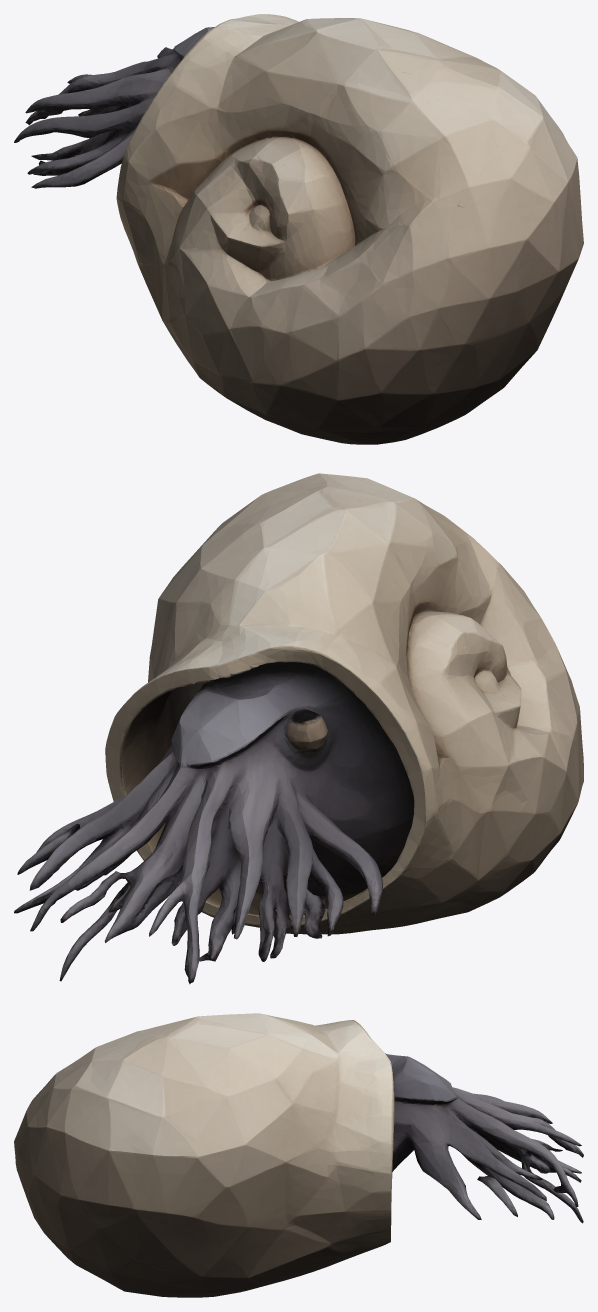
3 renders of one model, top to bottom at view 1: azimuth 30°, elevation 25°; view 2: azimuth 150°, elevation 25°; view 3: azimuth 270°, elevation 25°, orthographic. The views are drawn at different scales.
Visible parts, largest first — view 1: world; view 2: world; view 3: world.
Boxes of the visible parts, bbox=[...] form: world: bbox=[14, 14, 583, 444]; world: bbox=[14, 473, 583, 984]; world: bbox=[14, 1013, 583, 1297].
Size of the model in its own units: 0.5507 by 0.5401 by 1.
Materials: 1 (1 with a texture image).
